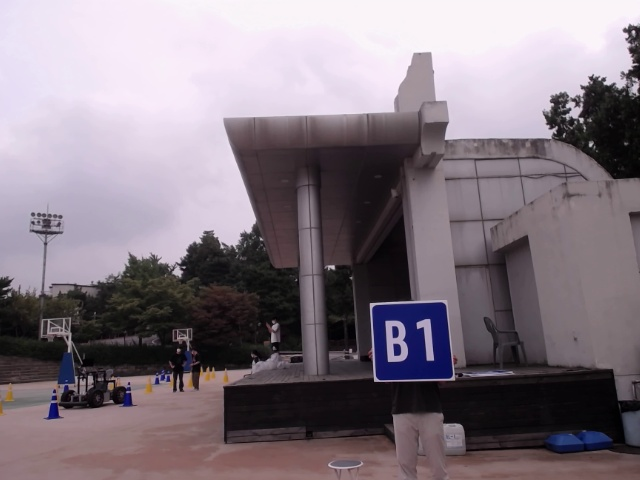delivery_b1: (370, 301, 455, 382)
